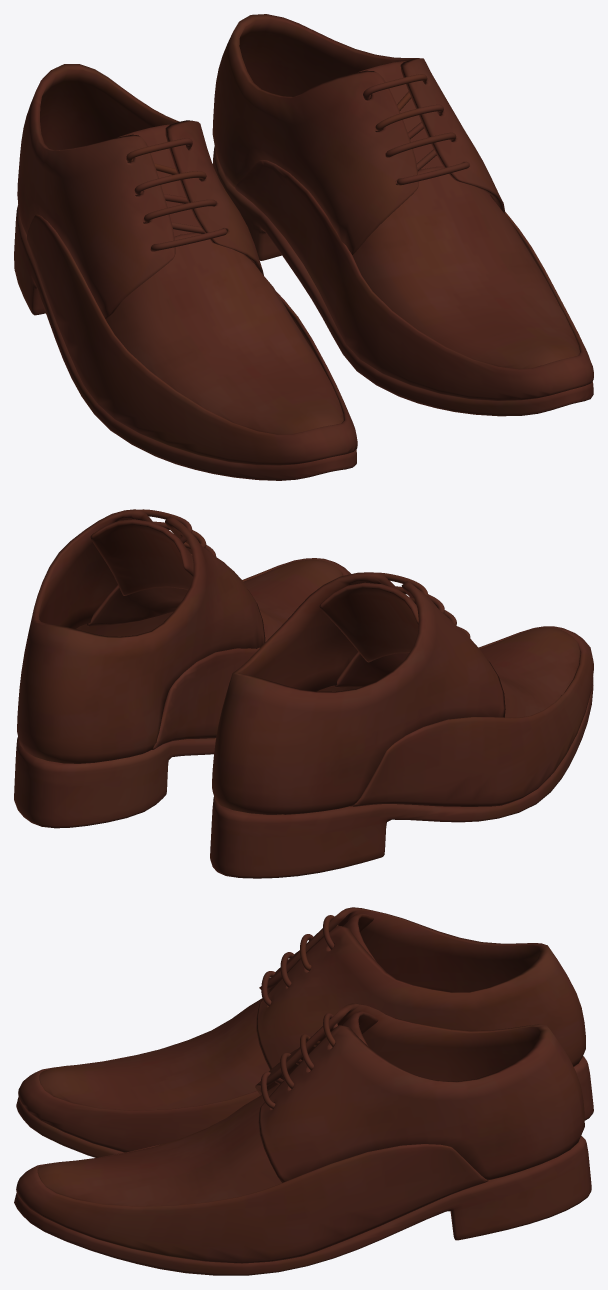
File: Shoe3-1.glb
3 renders of one model, top to bottom at view 1: azimuth 30°, elevation 25°; view 2: azimuth 150°, elevation 25°; view 3: azimuth 270°, elevation 25°, orthographic. The views are drawn at different scales.
Parts seen in each view (by area): view 1: Object_4.015; view 2: Object_4.015; view 3: Object_4.015.
Part boxes in pixels (<box>): Object_4.015: <box>14,14,593,480</box>; Object_4.015: <box>14,509,593,878</box>; Object_4.015: <box>14,907,593,1275</box>.
Size of the model in its own units: 0.682 by 0.384 by 0.8888.
1 material, 1 textured.
